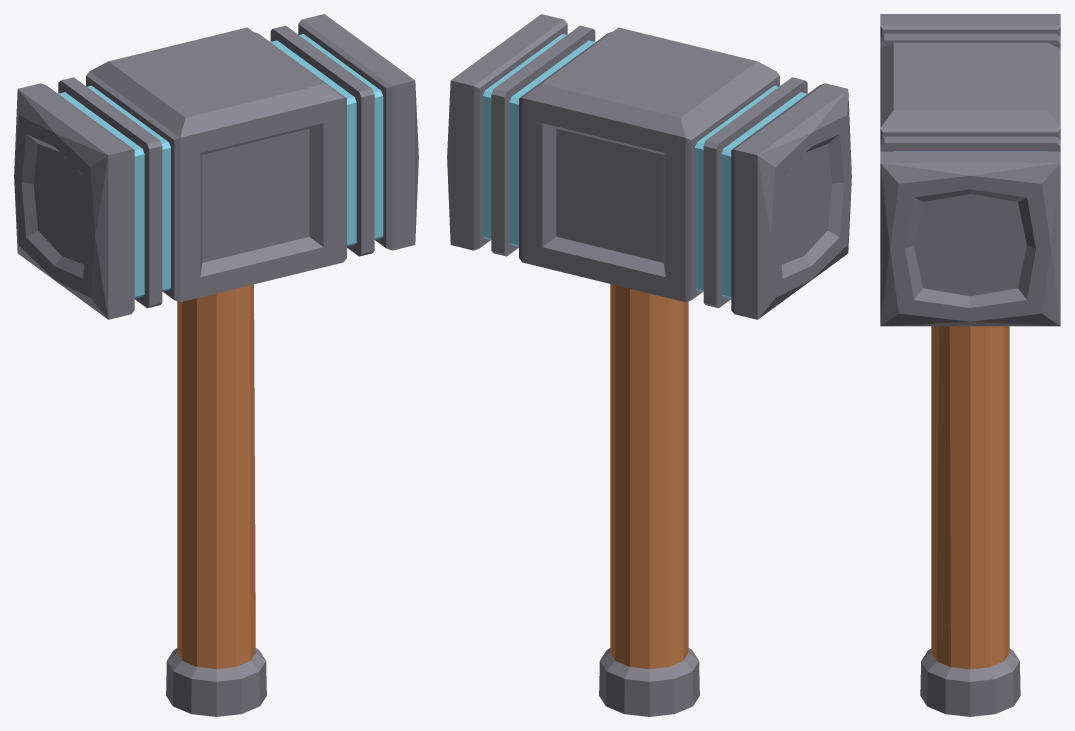
The model's file is low-poly_hammer.glb.
3 views of the same model, side by side, from view 1: azimuth 30°, elevation 25°; view 2: azimuth 150°, elevation 25°; view 3: azimuth 270°, elevation 25° (orthographic).
Visible parts, largest first — view 1: Icosphere; view 2: Icosphere; view 3: Icosphere.
Boxes of the visible parts, bbox=[...] form: Icosphere: bbox=[14, 14, 418, 716]; Icosphere: bbox=[447, 14, 851, 716]; Icosphere: bbox=[880, 14, 1060, 716].
Size of the model in its own units: 4.12 by 7.66 by 2.
